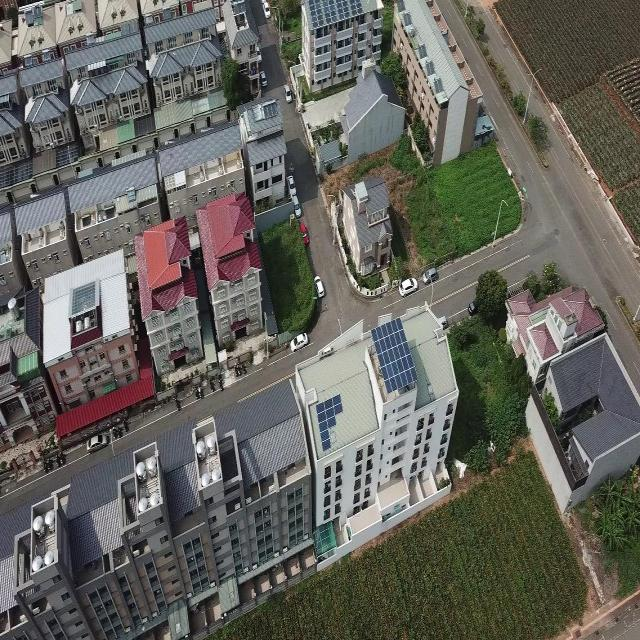bike: (174, 396, 182, 412), (208, 377, 215, 393), (59, 451, 66, 466), (241, 361, 248, 376), (42, 458, 48, 473), (218, 376, 224, 391), (112, 426, 118, 440), (116, 423, 122, 437), (236, 362, 242, 376), (47, 456, 52, 472), (123, 418, 128, 432), (55, 454, 60, 467), (196, 385, 200, 399), (234, 363, 238, 376)
car: (86, 432, 108, 453), (290, 331, 308, 352), (399, 277, 418, 296), (422, 267, 439, 284), (314, 275, 325, 298), (299, 221, 309, 246), (287, 174, 296, 197), (292, 196, 301, 217), (283, 84, 292, 103), (262, 0, 271, 18), (260, 70, 268, 86), (468, 299, 476, 315)
